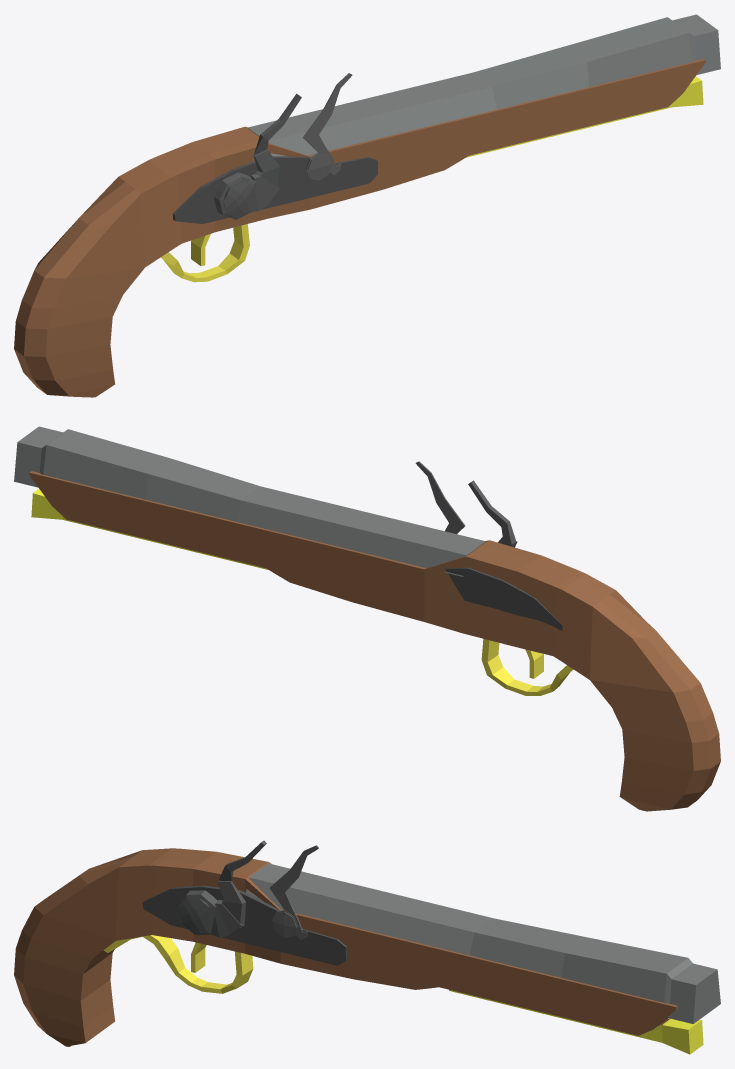
File: ranged level-2 pistol.fbx
3 renders of one model, top to bottom at view 1: azimuth 30°, elevation 25°; view 2: azimuth 150°, elevation 25°; view 3: azimuth 330°, elevation 25°, orthographic.
Visible parts, largest first — view 1: Cube.010; view 2: Cube.010; view 3: Cube.010.
Boxes of the visible parts, x1,y1,x2,y2 form: Cube.010: (14,14,720,397); Cube.010: (14,426,720,811); Cube.010: (14,840,720,1054).
Bounding box in the file's own units: 498 × 184 × 47.37.
